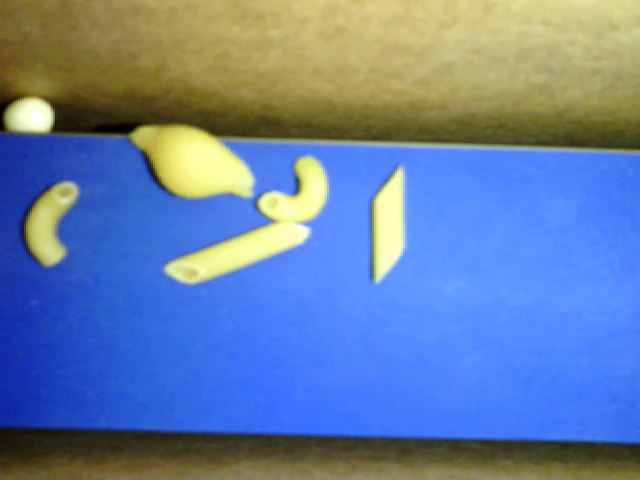elbow: (257, 155, 330, 225), (24, 181, 78, 267)
penne: (161, 222, 310, 283), (370, 164, 406, 286)
shell: (126, 123, 255, 200)
